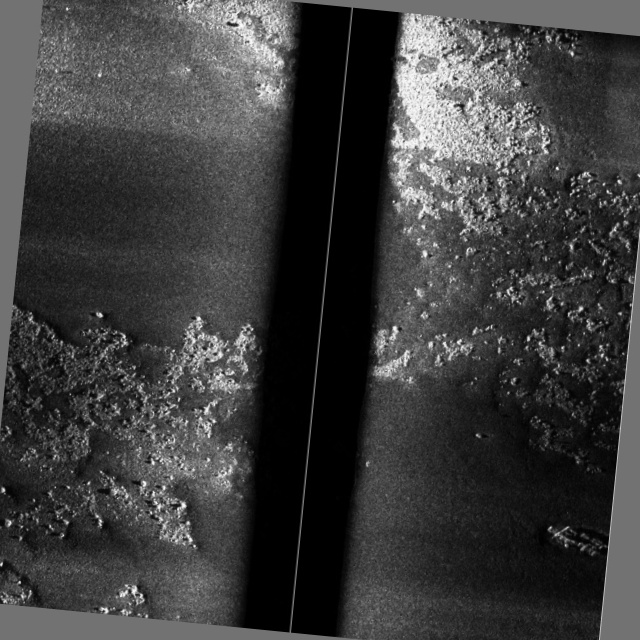Shipwreck: (543, 524, 609, 559)
